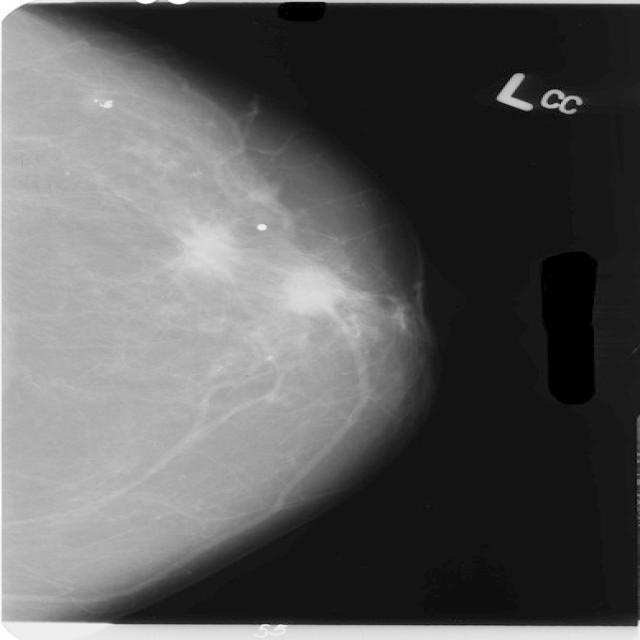tumour: (171, 222, 234, 279), (280, 264, 344, 313)
